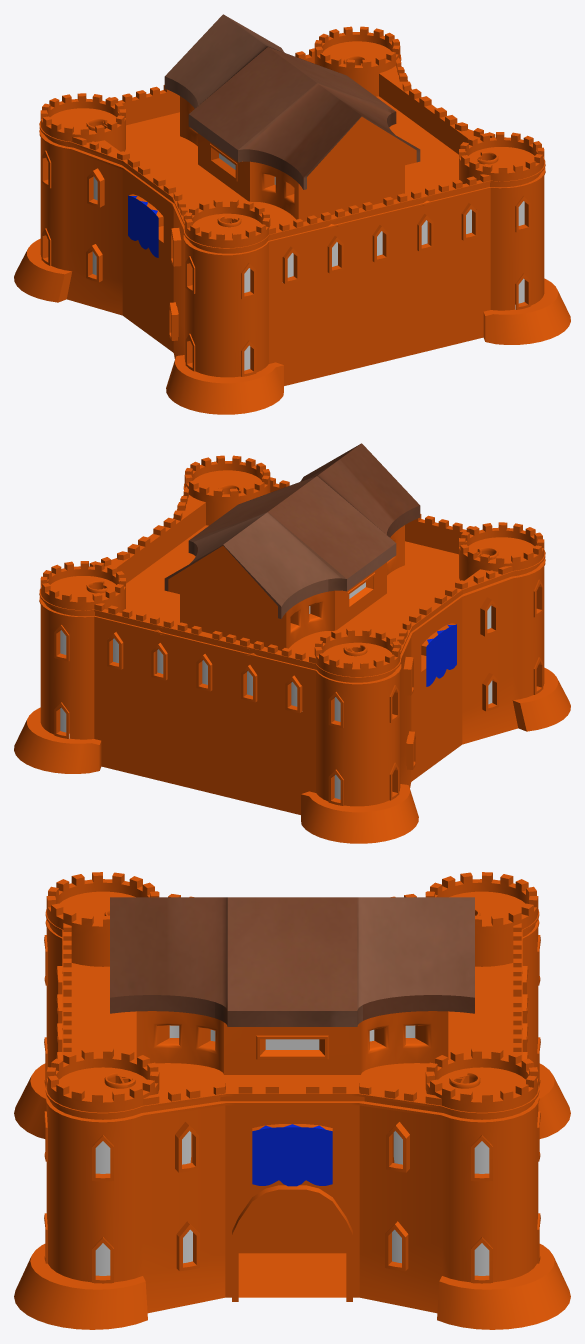
Rendered from CastleV4.fbx.
3 renders of one model, top to bottom at view 1: azimuth 30°, elevation 25°; view 2: azimuth 150°, elevation 25°; view 3: azimuth 270°, elevation 25°, orthographic. The views are drawn at different scales.
Visible parts, largest first — view 1: BasicCastle; view 2: BasicCastle; view 3: BasicCastle.
Part boxes in pixels (bbox=[...]): BasicCastle: bbox=[14, 14, 570, 414]; BasicCastle: bbox=[14, 443, 570, 843]; BasicCastle: bbox=[14, 872, 570, 1329].
Size of the model in its own units: 1049 by 603 by 989.
Materials: 6 (1 with a texture image).
